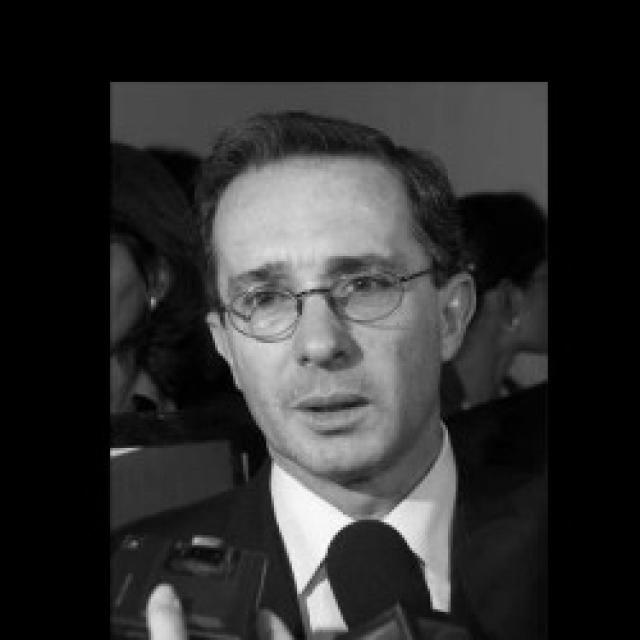real: (204, 144, 458, 490), (233, 267, 418, 338)
